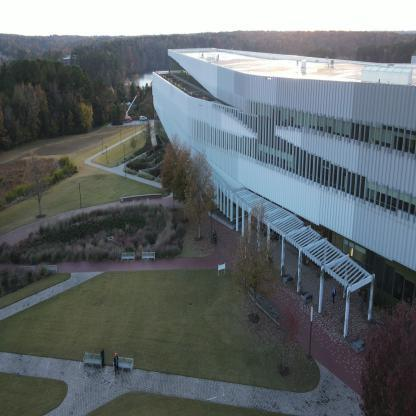Hunt Library: (125, 13, 415, 323)
